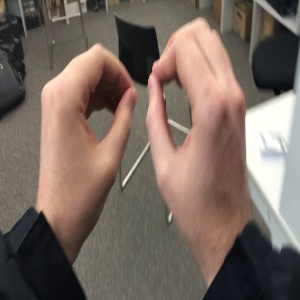hand: (146, 17, 249, 229), (41, 44, 137, 224)
